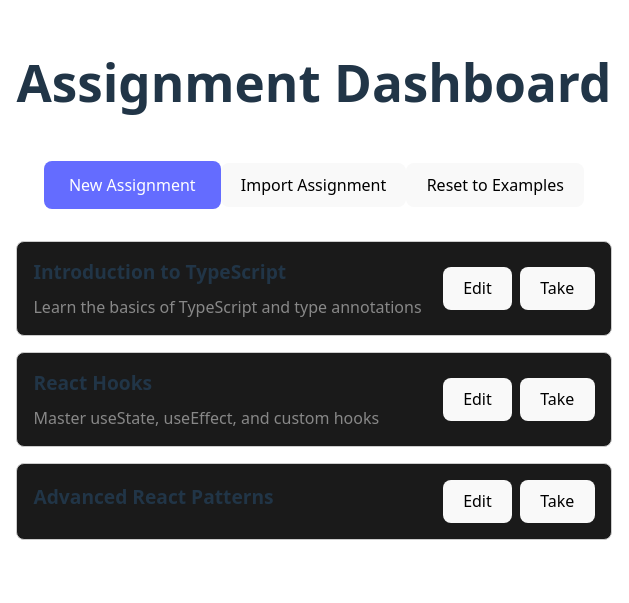
it: App Component › App component creates new assignment when button is clicked
Expected: the heading "Introduction to TypeScript" is shown, [34,258,286,285]
Expected: the heading "React Hooks" is shown, [34,369,152,396]
Note: Click the New Assignment button
What coordinates should you click on to do the following:
click the button with test id "new-assignment-button"
I would click on:
 (132, 185)
Its box is [44,161,221,209].
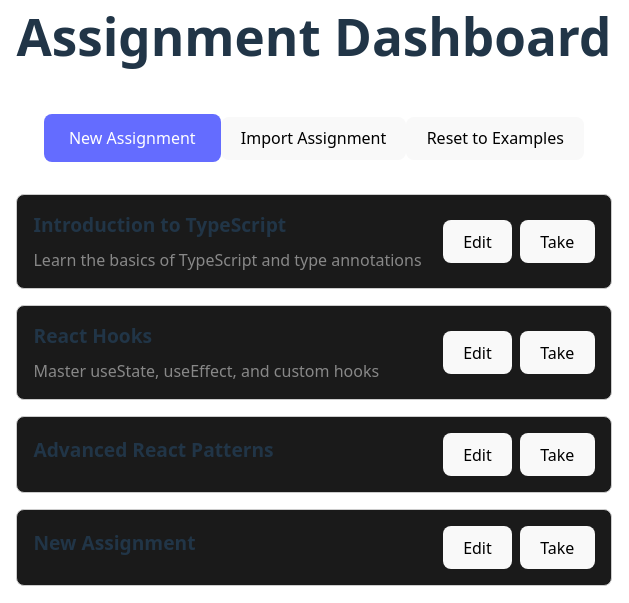
Expected: the element with test id "assignment-4" is shown, [16,509,612,586]
Expected: the number of buttons "Edit" is 8
